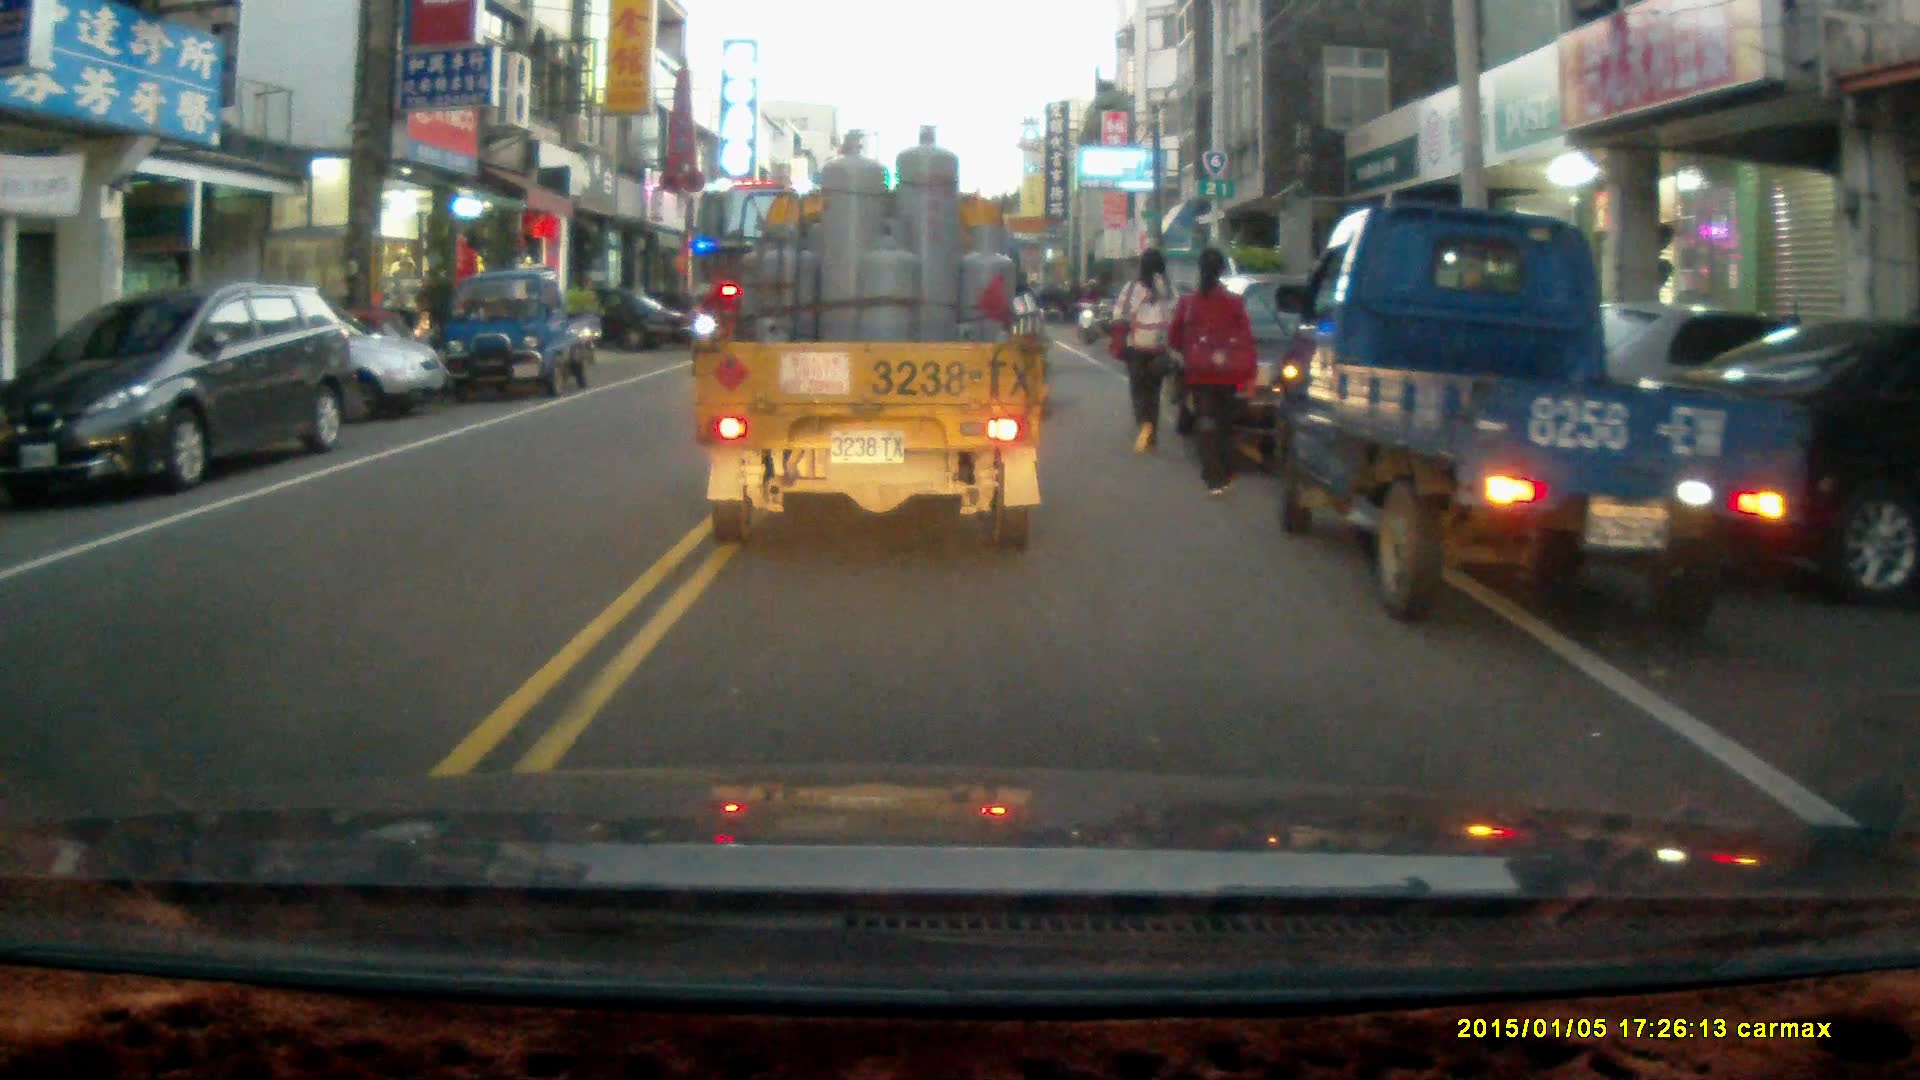pedestrian: (1164, 251, 1255, 501), (1106, 246, 1177, 456)
rider: (1073, 275, 1106, 343)
vehicle: (1274, 202, 1809, 643), (690, 124, 1047, 552), (2, 282, 360, 497), (1173, 273, 1431, 467), (145, 296, 451, 431), (441, 274, 594, 405)
